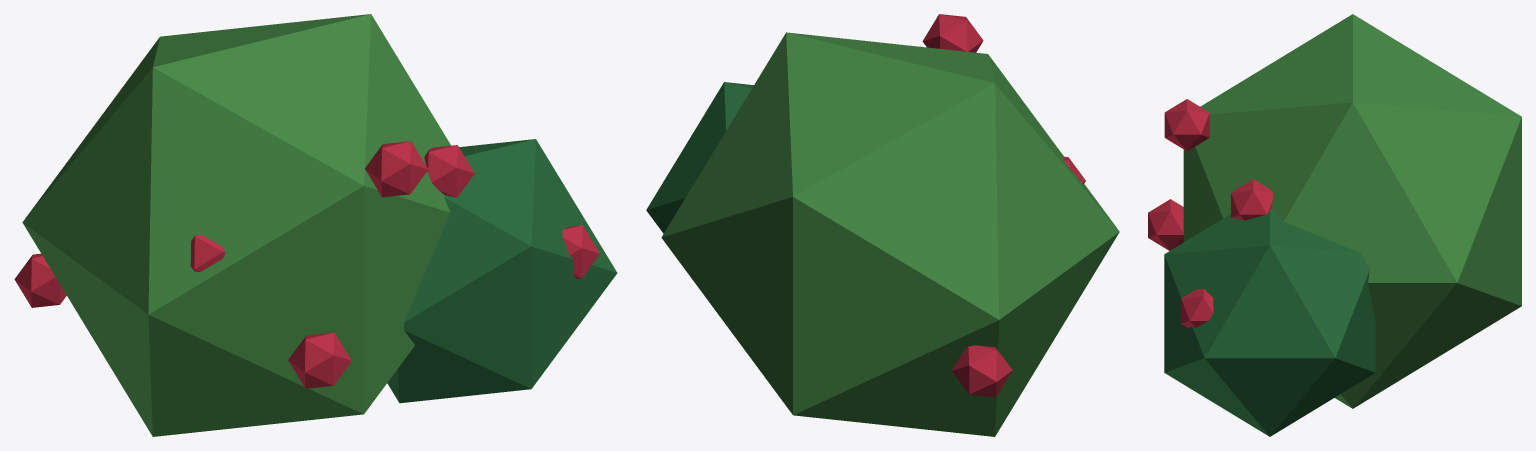
Rendered from berry-bush.glb.
3 views of the same model, side by side, from view 1: azimuth 30°, elevation 25°; view 2: azimuth 150°, elevation 25°; view 3: azimuth 270°, elevation 25° (orthographic). The views are drawn at different scales.
Visible parts, largest first — view 1: berry_bush; view 2: berry_bush; view 3: berry_bush.
Boxes of the visible parts, box(x1,y1,x2,y2) form: berry_bush: box(14, 14, 617, 436); berry_bush: box(646, 14, 1119, 436); berry_bush: box(1148, 14, 1521, 436).
Size of the model in its own units: 0.2574 by 0.2042 by 0.2257.
